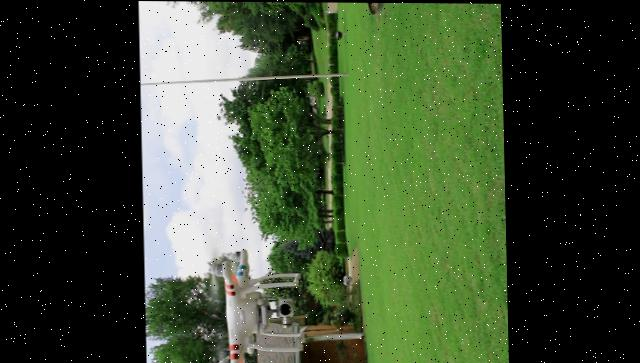drone: (209, 245, 304, 363)
